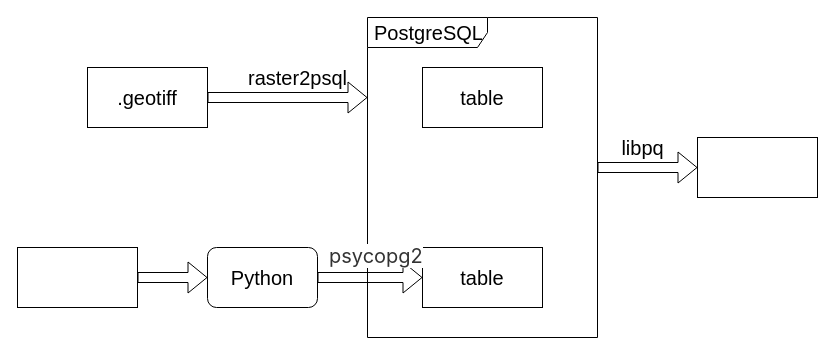
The diagram is 835 pixels wide and 355 high, and some of its shapes have lost their labels. Each missing label, with the centre of its shape:
.txt: (x=77, y=277)
Клеточный автомат: (x=757, y=167)
